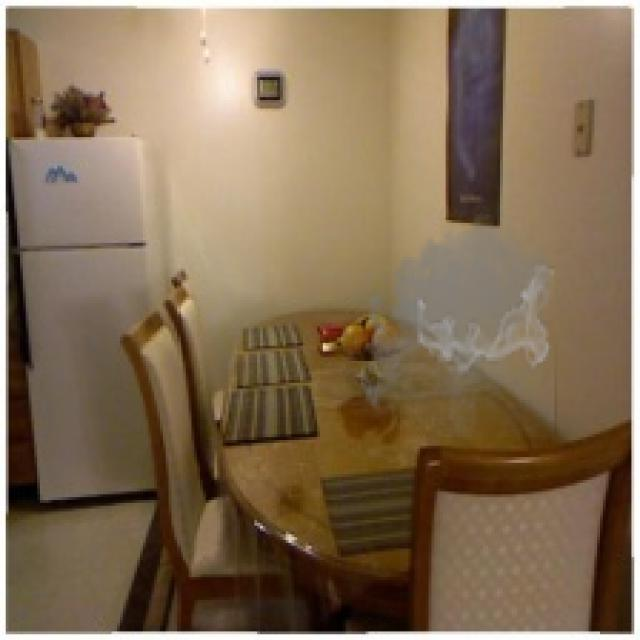smoke: (354, 203, 557, 437)
